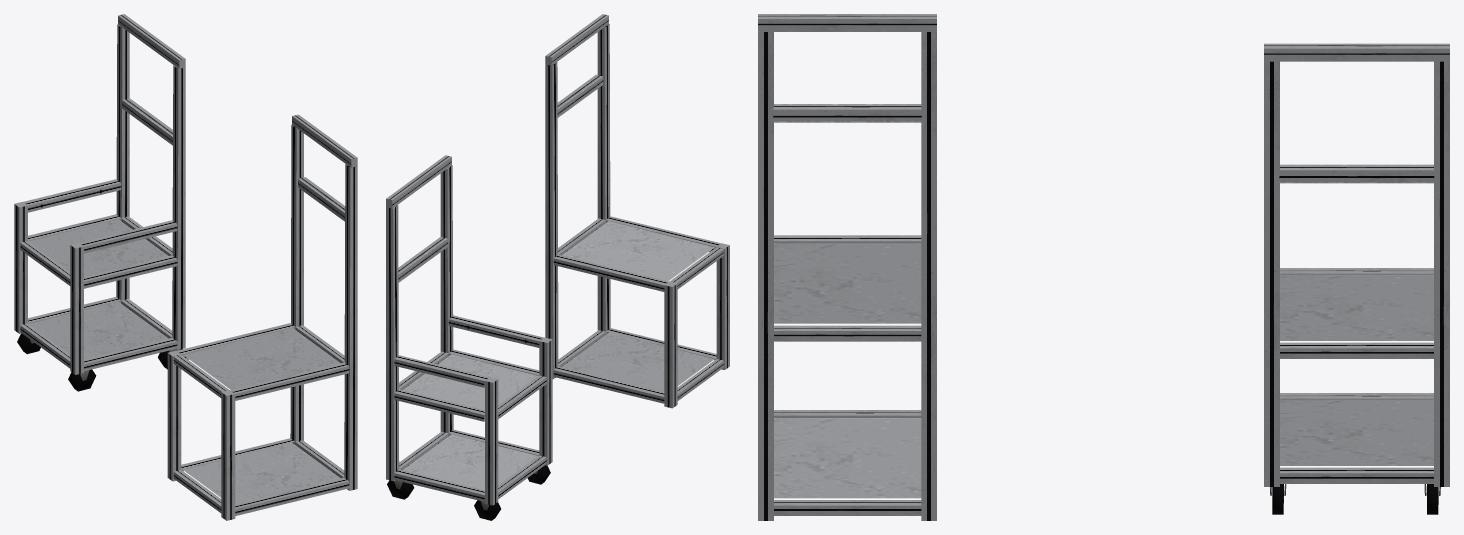
File: XiaoJiaZi.FBX
The picture shows the model from 3 angles, left to right: view 1: azimuth 30°, elevation 25°; view 2: azimuth 150°, elevation 25°; view 3: azimuth 270°, elevation 25°; orthographic projection. The views are drawn at different scales.
Parts seen in each view (by area): view 1: LT_XiaoJiaZi_02, LT_XiaoJiaZi_01; view 2: LT_XiaoJiaZi_02, LT_XiaoJiaZi_01; view 3: LT_XiaoJiaZi_02, LT_XiaoJiaZi_01.
Boxes of the visible parts, x1,y1,x2,y2 form: LT_XiaoJiaZi_02: [167, 114, 357, 520]; LT_XiaoJiaZi_01: [14, 14, 185, 391]; LT_XiaoJiaZi_02: [545, 14, 729, 408]; LT_XiaoJiaZi_01: [386, 155, 552, 520]; LT_XiaoJiaZi_02: [758, 14, 936, 520]; LT_XiaoJiaZi_01: [1264, 43, 1449, 514].
Size of the model in its own units: 60.68 by 145 by 181.
